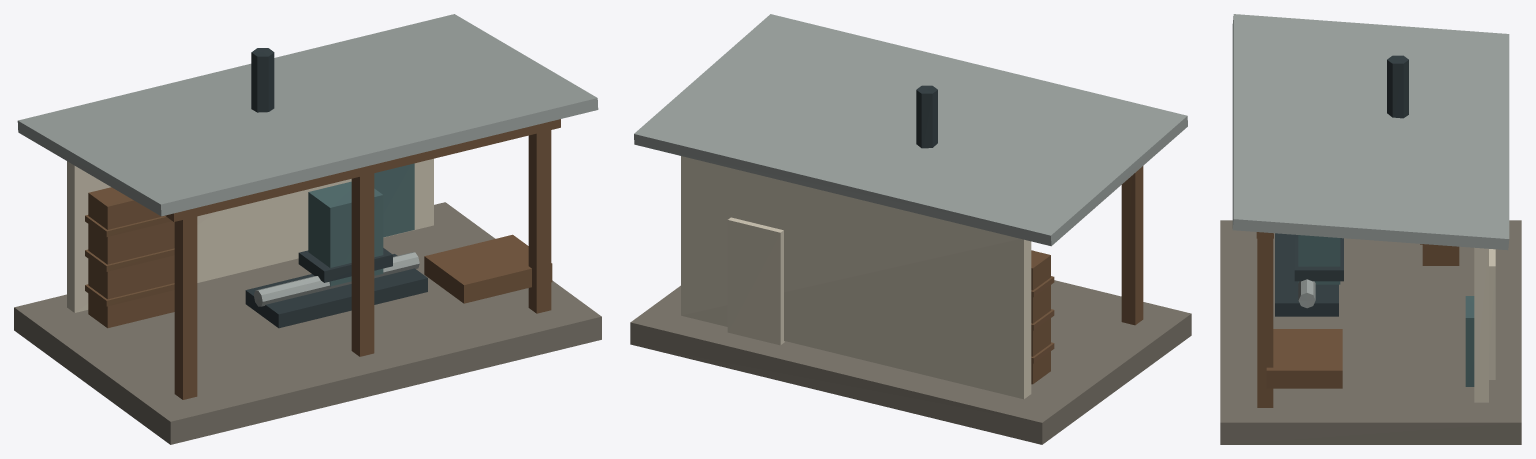
The model's file is Packaging-House.glb.
3 views of the same model, side by side, from view 1: azimuth 30°, elevation 25°; view 2: azimuth 150°, elevation 25°; view 3: azimuth 270°, elevation 25° (orthographic). The views are drawn at different scales.
Parts seen in each view (by area): view 1: wind-pump-static-packaging-house-galvanized-surfaces, wind-pump-static-packaging-house-concrete-base, wind-pump-static-packaging-house-warm-timber, wind-pump-static-packaging-house-pale-insulated-panels, wind-pump-static-packaging-house-dark-iron, wind-pump-static-packaging-house-muted-teal-machine; view 2: wind-pump-static-packaging-house-galvanized-surfaces, wind-pump-static-packaging-house-pale-insulated-panels, wind-pump-static-packaging-house-concrete-base, wind-pump-static-packaging-house-warm-timber, wind-pump-static-packaging-house-dark-iron; view 3: wind-pump-static-packaging-house-galvanized-surfaces, wind-pump-static-packaging-house-concrete-base, wind-pump-static-packaging-house-warm-timber, wind-pump-static-packaging-house-dark-iron, wind-pump-static-packaging-house-pale-insulated-panels, wind-pump-static-packaging-house-muted-teal-machine.
Part boxes in pixels (box(x1,y1,x2,y2)): wind-pump-static-packaging-house-galvanized-surfaces: box(17, 14, 598, 306); wind-pump-static-packaging-house-concrete-base: box(14, 202, 601, 444); wind-pump-static-packaging-house-warm-timber: box(85, 119, 560, 399); wind-pump-static-packaging-house-pale-insulated-panels: box(67, 158, 433, 312); wind-pump-static-packaging-house-dark-iron: box(245, 48, 427, 328); wind-pump-static-packaging-house-muted-teal-machine: box(308, 163, 414, 286); wind-pump-static-packaging-house-galvanized-surfaces: box(634, 14, 1187, 246); wind-pump-static-packaging-house-pale-insulated-panels: box(681, 156, 1031, 399); wind-pump-static-packaging-house-concrete-base: box(630, 280, 1191, 444); wind-pump-static-packaging-house-warm-timber: box(1031, 166, 1143, 384); wind-pump-static-packaging-house-dark-iron: box(916, 85, 937, 148); wind-pump-static-packaging-house-galvanized-surfaces: box(1232, 14, 1509, 308); wind-pump-static-packaging-house-concrete-base: box(1220, 220, 1521, 444); wind-pump-static-packaging-house-warm-timber: box(1256, 232, 1459, 407); wind-pump-static-packaging-house-dark-iron: box(1275, 55, 1408, 316); wind-pump-static-packaging-house-pale-insulated-panels: box(1474, 247, 1495, 402); wind-pump-static-packaging-house-muted-teal-machine: box(1298, 235, 1474, 386).
Size of the model in its own units: 3.95 by 2.42 by 2.45.
